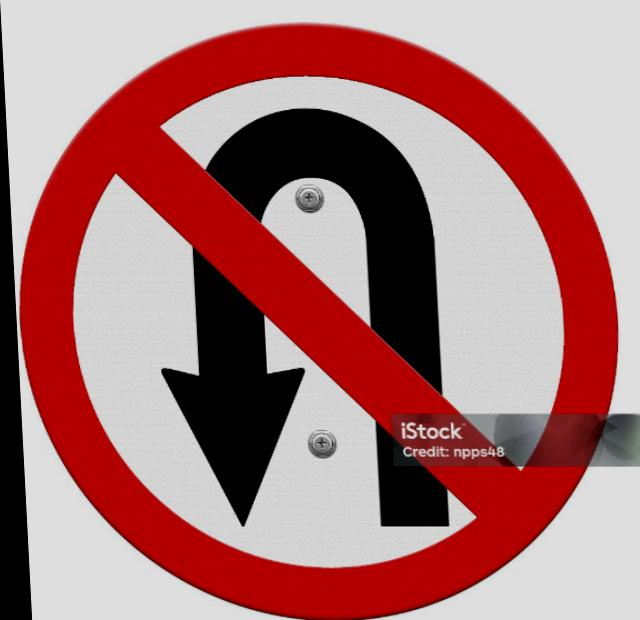not_u_turn_left: (13, 20, 624, 614)
